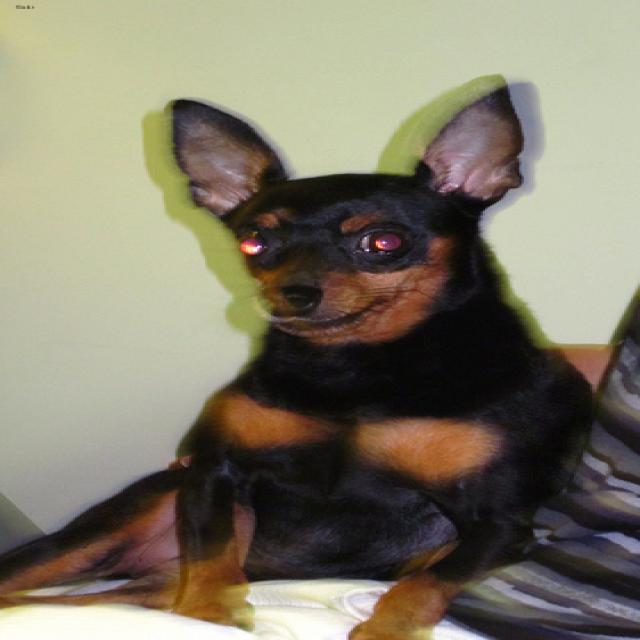dog-miniature_pinscher: (2, 73, 606, 637)
